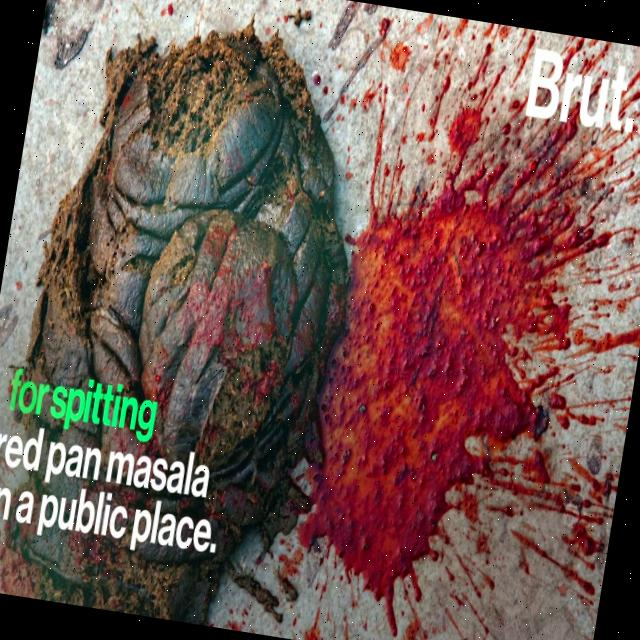spit: (306, 187, 619, 620)
